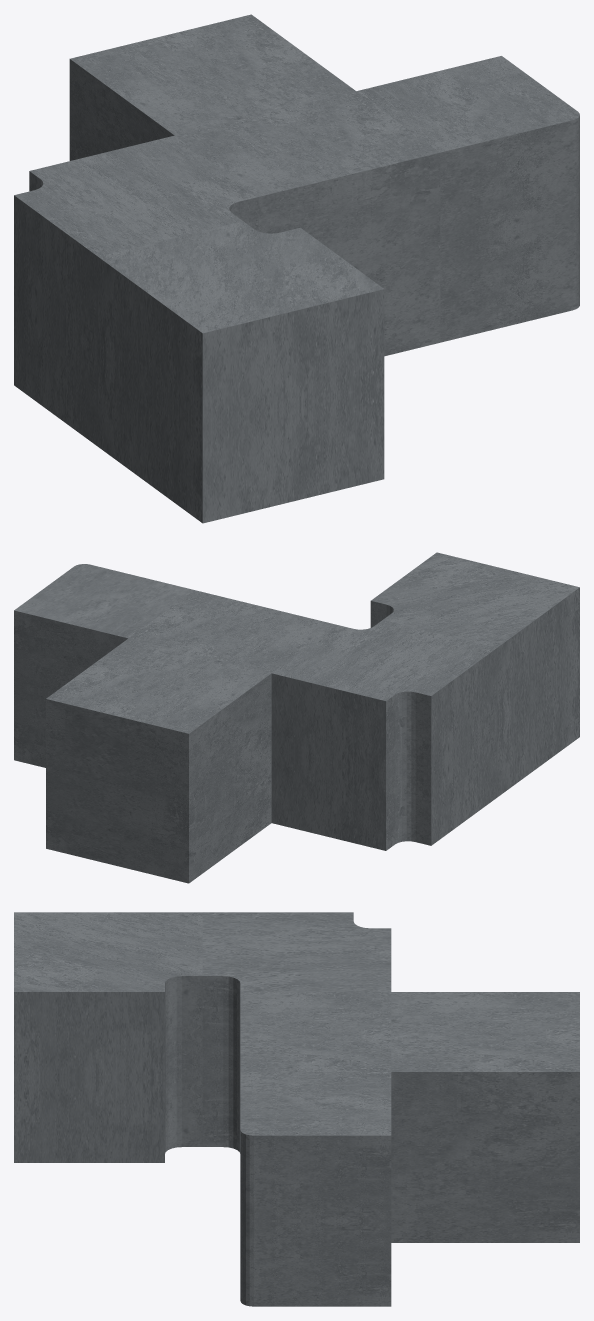
The model's file is Middle地块.fbx.
3 views of the same model, one above another, from view 1: azimuth 30°, elevation 25°; view 2: azimuth 150°, elevation 25°; view 3: azimuth 270°, elevation 25° (orthographic). The views are drawn at different scales.
Visible parts, largest first — view 1: 立方体.004, 立方体.002, 立方体.001, 立方体.003, 立方体; view 2: 立方体, 立方体.003, 立方体.004, 立方体.002, 立方体.001; view 3: 立方体, 立方体.004, 立方体.002, 立方体.003, 立方体.001.
Part boxes in pixels (bbox=[...]): 立方体.004: bbox=[98, 221, 384, 523]; 立方体.002: bbox=[356, 56, 579, 342]; 立方体.001: bbox=[175, 91, 440, 356]; 立方体.003: bbox=[14, 135, 258, 446]; 立方体: bbox=[69, 14, 355, 160]; 立方体: bbox=[46, 638, 271, 883]; 立方体.003: bbox=[271, 620, 497, 850]; 立方体.004: bbox=[370, 552, 579, 797]; 立方体.002: bbox=[14, 564, 193, 767]; 立方体.001: bbox=[129, 590, 336, 673]; 立方体: bbox=[391, 992, 579, 1242]; 立方体.004: bbox=[14, 912, 202, 1162]; 立方体.002: bbox=[240, 1072, 391, 1306]; 立方体.003: bbox=[202, 912, 391, 1153]; 立方体.001: bbox=[240, 992, 391, 1071].
Size of the model in its own units: 140 by 50 by 150.
